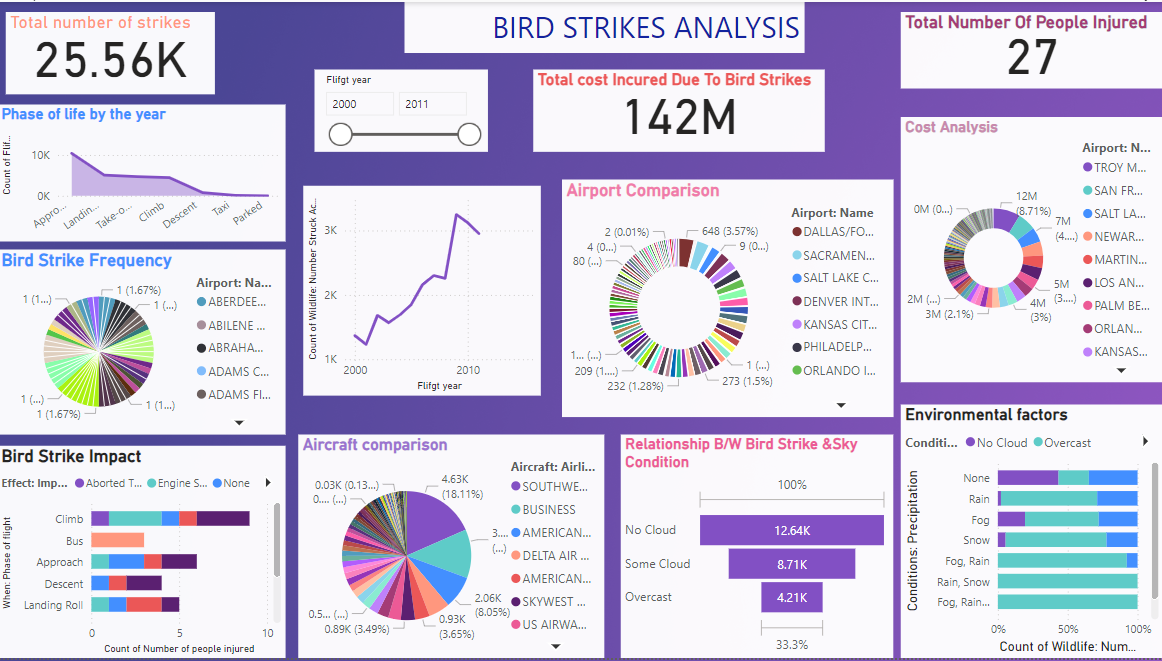

Layout of this report page (visuals, bound fields, positions):
{"tool":"powerbi","page":{"name":"Page 1","canvas":[1280,720],"ordinal":0},"visuals":[{"type":"textbox","box":[447.3,0,439.1,56.3],"z":0},{"type":"slicer","fields":{"Values":["Bird Strikes data xlsx - Bird S.Flifgt year"]},"box":[348.5,74.6,190.8,90.5],"z":1000},{"type":"card","title":"Total number of strikes","fields":{"Values":["CountNonNull(Bird Strikes data xlsx - Bird S.Wildlife: Number Struck Actual)"]},"box":[9.8,11,229.9,90.5],"z":2000},{"type":"pieChart","title":"Bird Strike Frequency","fields":{"Category":["Bird Strikes data xlsx - Bird S.Airport: Name"],"Y":["Count(Bird Strikes data xlsx - Bird S.Aircraft: Type)"],"Series":["Bird Strikes data xlsx - Bird S.Wildlife: Species"]},"box":[0,271.5,316.7,203],"z":3000},{"type":"barChart","title":"Bird Strike Impact","fields":{"Category":["Bird Strikes data xlsx - Bird S.When: Phase of flight"],"Y":["Count(Bird Strikes data xlsx - Bird S.Number of people injured)"],"Series":["Bird Strikes data xlsx - Bird S.Effect: Impact to flight"]},"box":[0,486.7,316.7,233.6],"z":4000},{"type":"donutChart","title":"Airport Comparison","fields":{"Category":["Bird Strikes data xlsx - Bird S.Airport: Name"],"Y":["CountNonNull(Bird Strikes data xlsx - Bird S.Flifgt year)"],"Series":["Bird Strikes data xlsx - Bird S.Wildlife: Number Struck Actual"]},"box":[620.2,194.9,363.6,260.7],"z":6000},{"type":"pieChart","title":"Aircraft comparison","fields":{"Category":["Bird Strikes data xlsx - Bird S.Aircraft: Airline/Operator"],"Y":["CountNonNull(Bird Strikes data xlsx - Bird S.Wildlife: Number Struck Actual)"],"Series":["Bird Strikes data xlsx - Bird S.Aircraft: Type"]},"box":[330.7,474.8,336.2,245.6],"z":7000},{"type":"hundredPercentStackedBarChart","title":"Environmental factors","fields":{"Category":["Bird Strikes data xlsx - Bird S.Conditions: Precipitation"],"Y":["Count(Bird Strikes data xlsx - Bird S.Wildlife: Number Struck Actual)"],"Series":["Bird Strikes data xlsx - Bird S.Conditions: Sky"]},"box":[992.1,441.9,288.2,278.6],"z":7001},{"type":"donutChart","title":"Cost Analysis","fields":{"Category":["Bird Strikes data xlsx - Bird S.Airport: Name"],"Series":["Bird Strikes data xlsx - Bird S.Aircraft: Type"],"Y":["Sum(Bird Strikes data xlsx - Bird S.Cost: Total $)"]},"box":[992.1,126.2,288.2,290.9],"z":7002},{"type":"card","title":"Total cost Incured Due To Bird Strikes","fields":{"Values":["Sum(Bird Strikes data xlsx - Bird S.Cost: Total $)"]},"box":[588.7,74.1,319.7,90.6],"z":7003},{"type":"lineChart","fields":{"Category":["Bird Strikes data xlsx - Bird S.Flifgt year"],"Y":["CountNonNull(Bird Strikes data xlsx - Bird S.Wildlife: Number Struck Actual)"]},"box":[336.2,201.7,260.7,230.5],"z":7004},{"type":"funnel","title":"Relationship B/W Bird Strike &Sky Condition","fields":{"Category":["Bird Strikes data xlsx - Bird S.Conditions: Sky"],"Y":["CountNonNull(Bird Strikes data xlsx - Bird S.Wildlife: Number Struck Actual)"]},"box":[684.7,474.8,299.1,245.6],"z":7005},{"type":"card","title":"Total Number Of People Injured","fields":{"Values":["Sum(Bird Strikes data xlsx - Bird S.Number of people injured)"]},"box":[992.1,11,288.2,83.7],"z":7006},{"type":"stackedAreaChart","title":"Phase of life by the year","fields":{"Category":["Bird Strikes data xlsx - Bird S.When: Phase of flight"],"Y":["CountNonNull(Bird Strikes data xlsx - Bird S.Flifgt year)"]},"box":[0,112.5,316.7,150.4],"z":7007}]}

Visuals, with their boxes in screenshot pixels (x1, y1, x2, y2), scaled from the page's 1280x720 canvas onto the 1162x661 screenshot:
textbox: <box>406,0,805,52</box>
slicer - Bird Strikes data xlsx - Bird S.Flifgt year: <box>316,68,490,152</box>
"Total number of strikes" card: <box>9,10,218,93</box>
"Bird Strike Frequency" pieChart: <box>0,249,288,436</box>
"Bird Strike Impact" barChart: <box>0,447,288,660</box>
"Airport Comparison" donutChart: <box>563,179,893,418</box>
"Aircraft comparison" pieChart: <box>300,436,605,660</box>
"Environmental factors" hundredPercentStackedBarChart: <box>901,406,1161,660</box>
"Cost Analysis" donutChart: <box>901,116,1161,383</box>
"Total cost Incured Due To Bird Strikes" card: <box>534,68,825,151</box>
lineChart - Bird Strikes data xlsx - Bird S.Flifgt year x CountNonNull(Bird Strikes data xlsx - Bird S.Wildlife: Number Struck Actual): <box>305,185,542,397</box>
"Relationship B/W Bird Strike &Sky Condition" funnel: <box>622,436,893,660</box>
"Total Number Of People Injured" card: <box>901,10,1161,87</box>
"Phase of life by the year" stackedAreaChart: <box>0,103,288,241</box>
